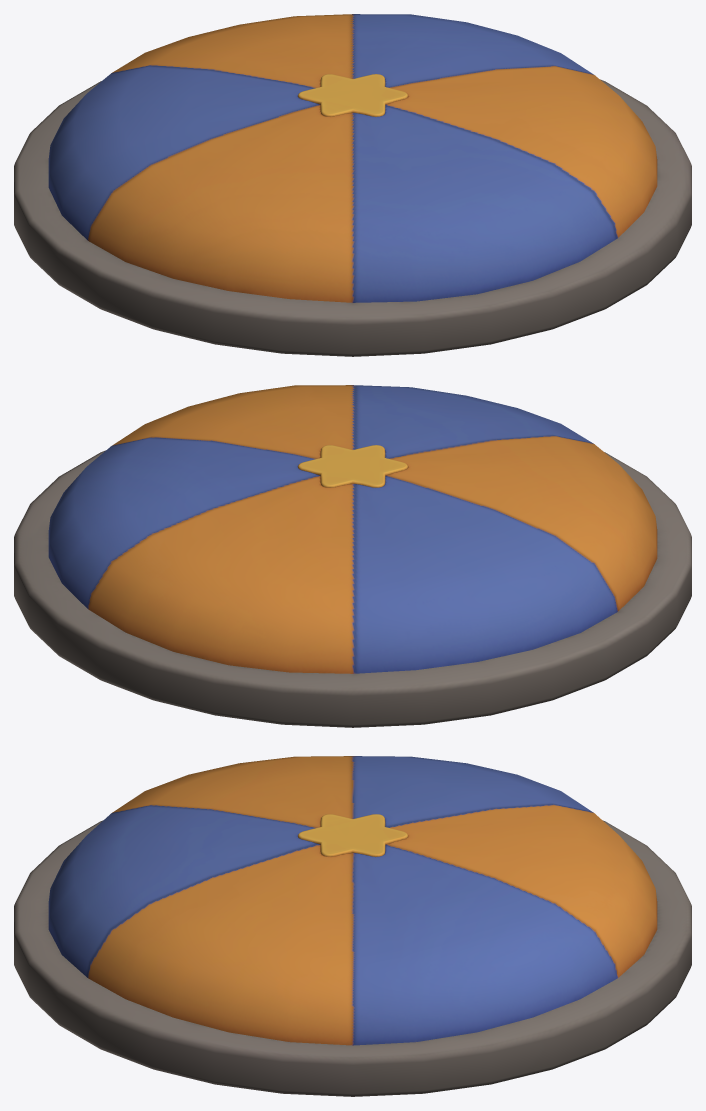
Rendered from SM_Trampoline.fbx.
The picture shows the model from 3 angles, top to bottom: view 1: azimuth 30°, elevation 25°; view 2: azimuth 150°, elevation 25°; view 3: azimuth 270°, elevation 25°; orthographic projection.
Visible parts, largest first — view 1: SM_Trampoline; view 2: SM_Trampoline; view 3: SM_Trampoline.
Boxes of the visible parts, left/top/right/bottom form: SM_Trampoline: left=14, top=14, right=691, bottom=356; SM_Trampoline: left=14, top=385, right=691, bottom=727; SM_Trampoline: left=14, top=756, right=691, bottom=1096.
Size of the model in its own units: 600 by 117 by 597.
